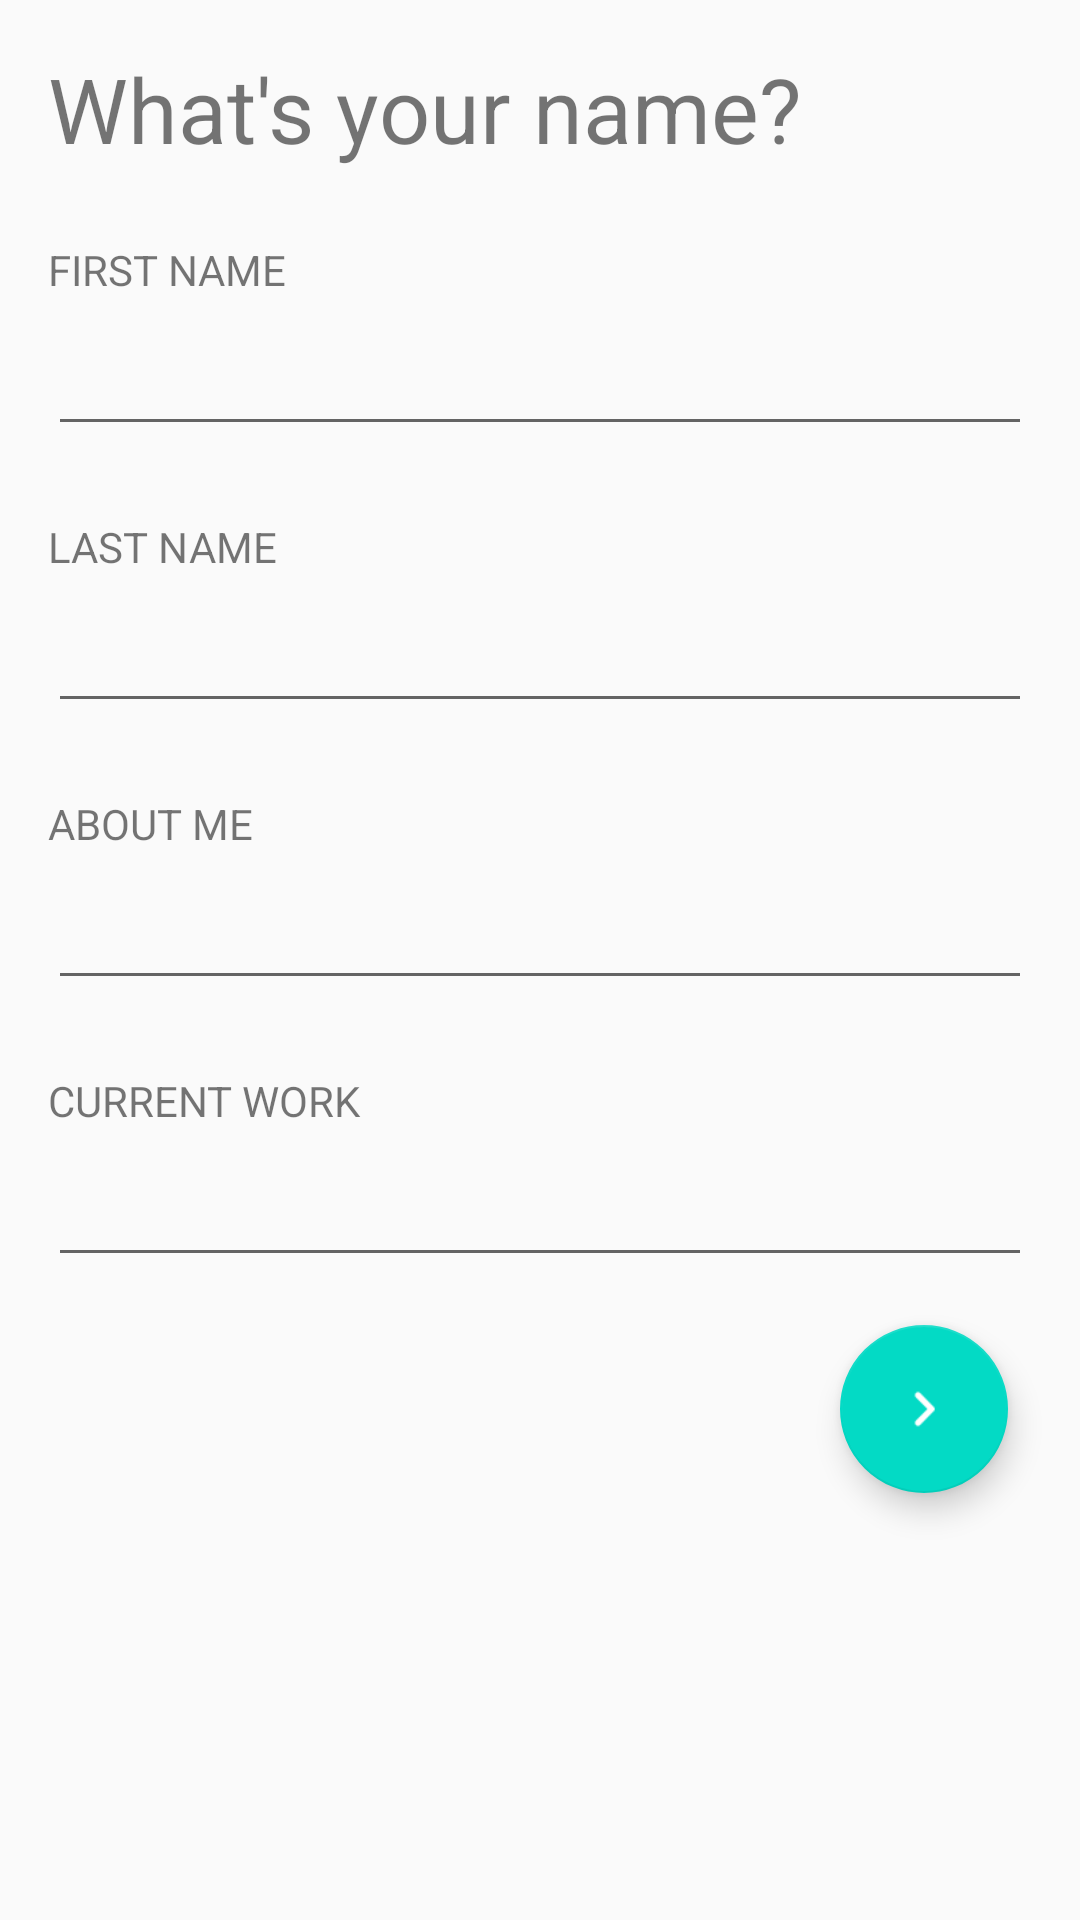

Icons on this 1080 × 1920 Android screen, each with its box as (x1, y1, x2, y2):
keyboard arrow right: (840, 1325, 1008, 1493)
